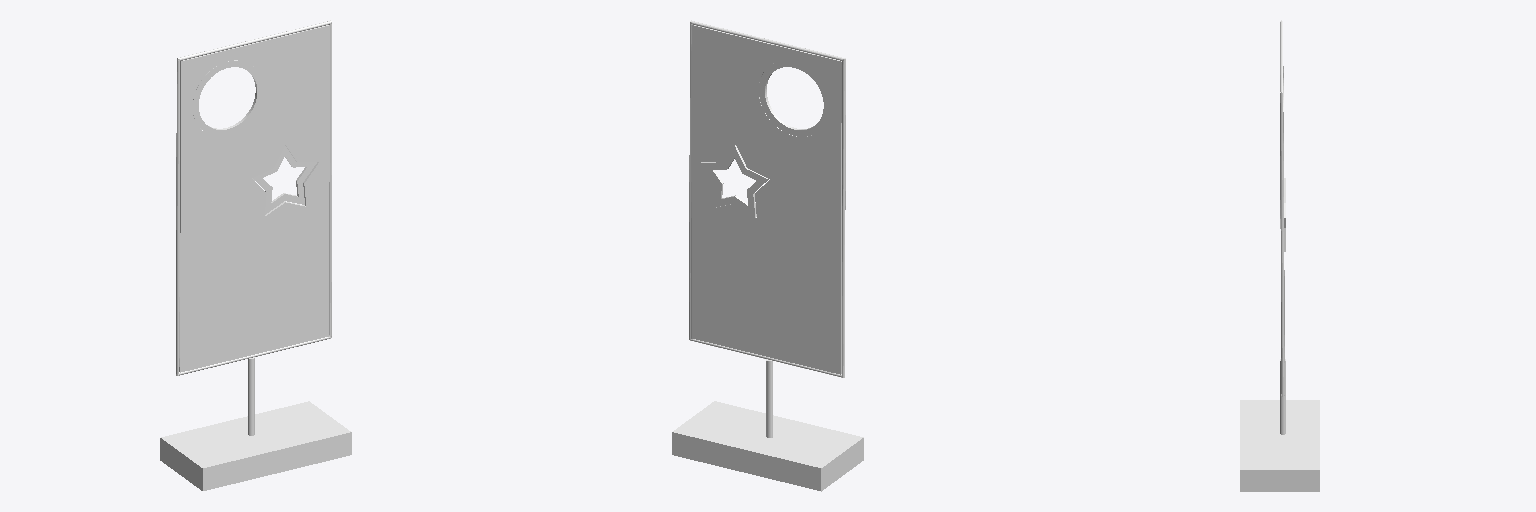
URDF robot description (Shootout):
<?xml version="1.0" encoding="utf-8"?>
<!-- This URDF was automatically created by SolidWorks to URDF Exporter! Originally created by [author] ([email redacted]) 
     Commit Version: 1.5.1-0-g916b5db  Build Version: 1.5.7152.31018
     For more information, please see http://wiki.ros.org/sw_urdf_exporter -->
<robot
  name="Shootout">
  <link
    name="base_link">
    <inertial>
      <origin
        xyz="0 -0.05 -0.1"
        rpy="-1.5708 0 0" />
      <mass
        value="16.622" />
      <inertia
        ixx="3.7236"
        ixy="0.0"
        ixz="0.0"
        iyy="0.6485"
        iyz="0.0"
        izz="4.1059" />
    </inertial>
    <visual>
      <origin
        xyz="-0.1 0.4 -0.7"
        rpy="0 0 0" />
      <geometry>
        <mesh scale = "0.001 0.001 0.001"
          filename="package://props_gazebo/models/Shootout/meshes/Shootout.dae" />
     </geometry>
      <!-- <material name = "white"/>

      <material name="white">
        <color rgba="${255/255} ${255/255} ${255/255} 1.0"/>
      </material>

      <gazebo reference="base_link">
        <material>Gazebo/White</material>
      </gazebo> -->
    </visual>
    <collision>
      <origin
        xyz="-0.1 0.4 -0.70"
        rpy="0 0 0" />
      <geometry>
        <mesh scale = "0.001 0.001 0.001"
          filename="package://props_gazebo/models/Shootout/meshes/Shootout.dae" />
      </geometry>
    </collision>
  </link>
</robot>

--- Render facts (derived) ---
Views: 3 orthographic renders of the robot side by side, from view 1: azimuth 30°, elevation 25°; view 2: azimuth 150°, elevation 25°; view 3: azimuth 270°, elevation 25°.
Robot: Shootout — 1 links, 0 joints (none); root link base_link; default pose: all joints at 0.
Links seen in each view (by area): view 1: base_link; view 2: base_link; view 3: base_link.
Link boxes in pixels (x1,y1,x2,y2): base_link: (160, 20, 351, 490); base_link: (672, 20, 863, 491); base_link: (1240, 20, 1319, 491).
Bounding box of the posed robot: 0.6353 × 0.3 × 1.64 m (x, y, z).
Meshes: 1 distinct files referenced, 1 mesh visuals loaded (1 Collada DAE).
